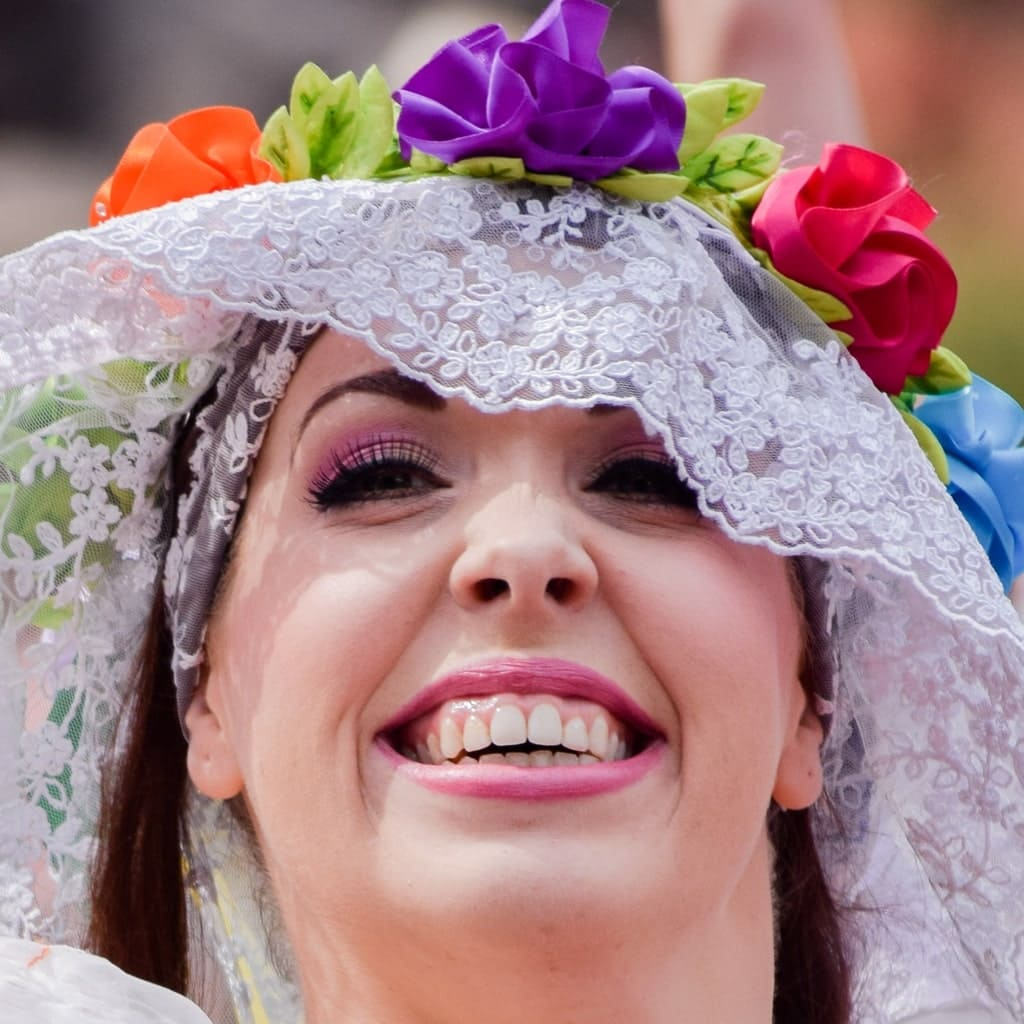without_mask: (260, 328, 757, 921)
